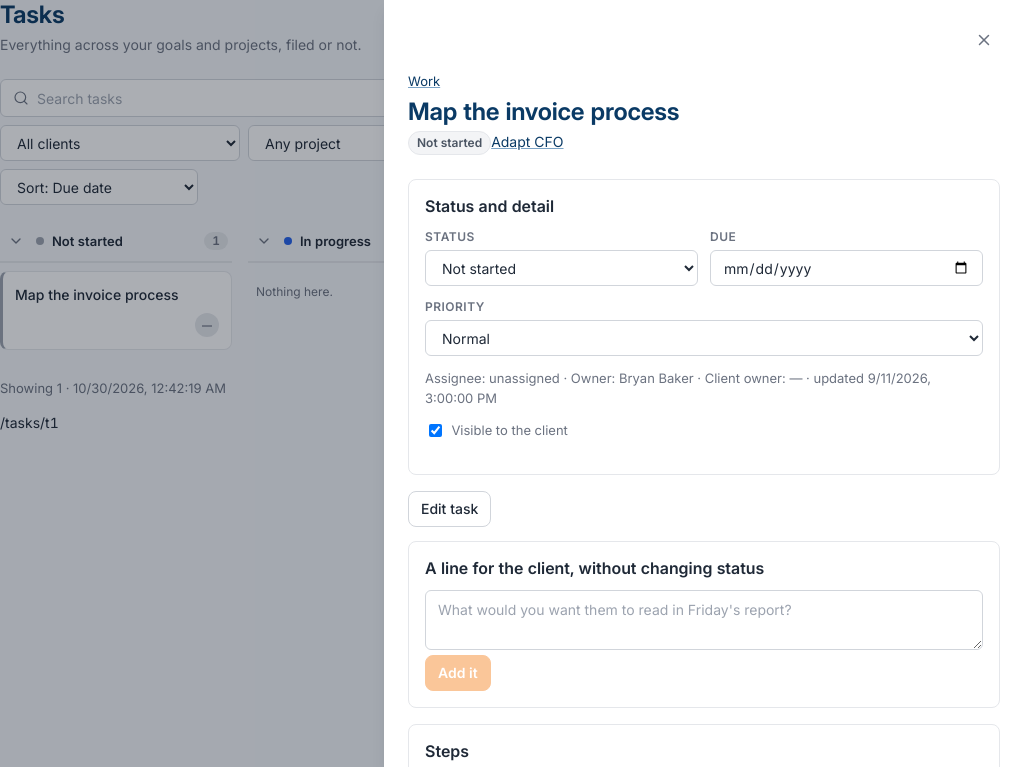
Test: the task sheet: what closes it and what does not › closes after Save changes and says Saved on the board
Click the button "Edit task".
click(450, 509)  # box [408,491,491,527]
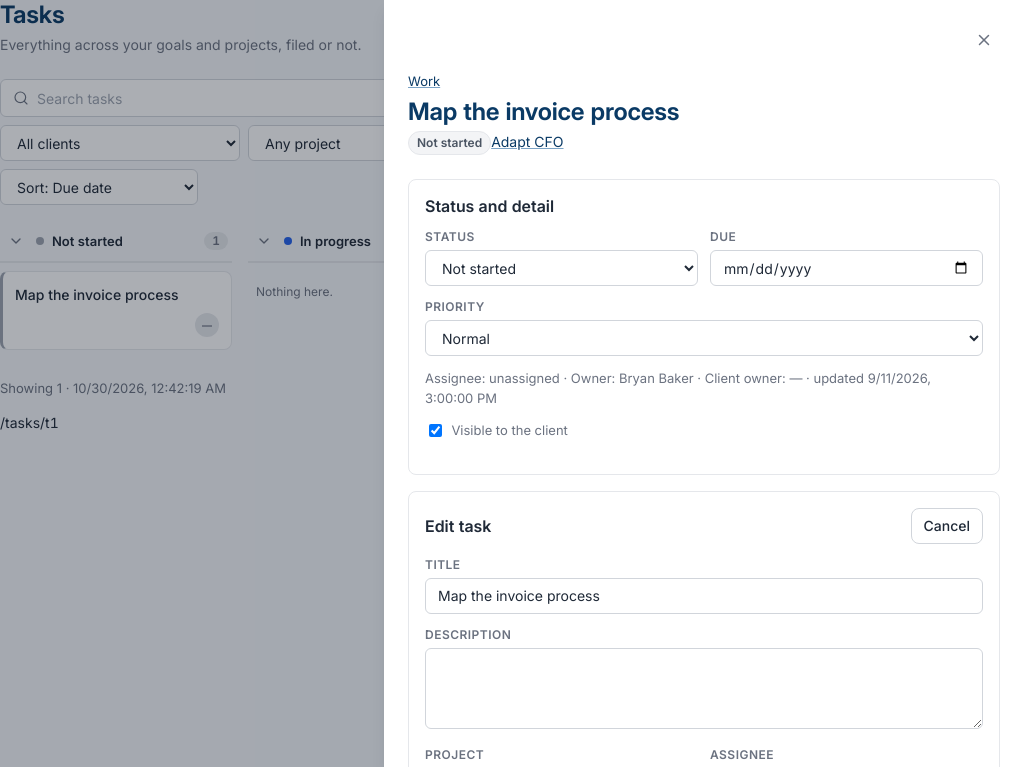
Type " end to end" into the field named "Title".
click(704, 596); type(" end to end")  # box [425,578,983,614]
(page scrolled)
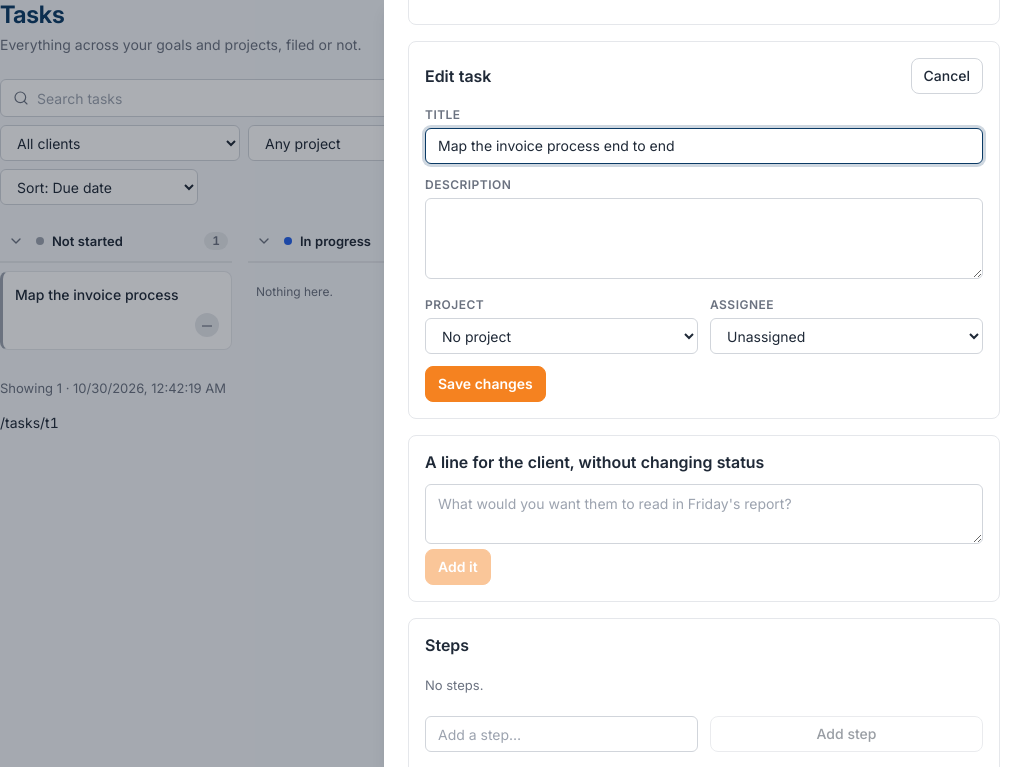
Click the button "Save changes".
click(485, 384)  # box [425,366,546,402]
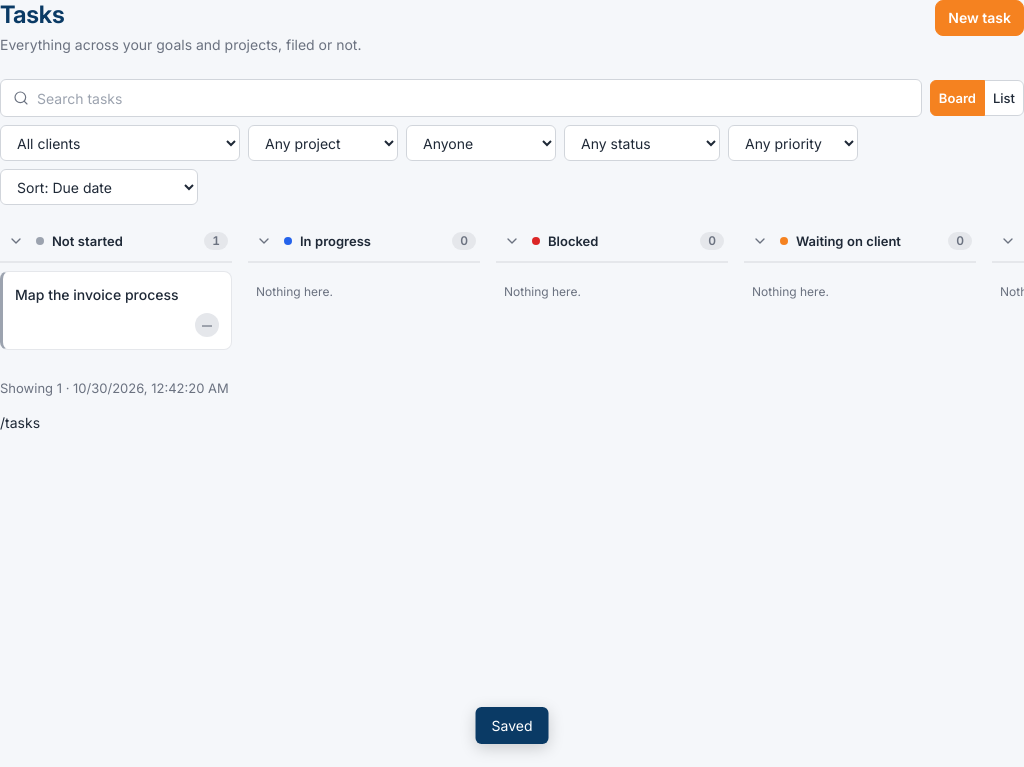
Result: the dialog with class "sheet" is gone
Result: the message reads "Saved" at [492,717,532,734]
